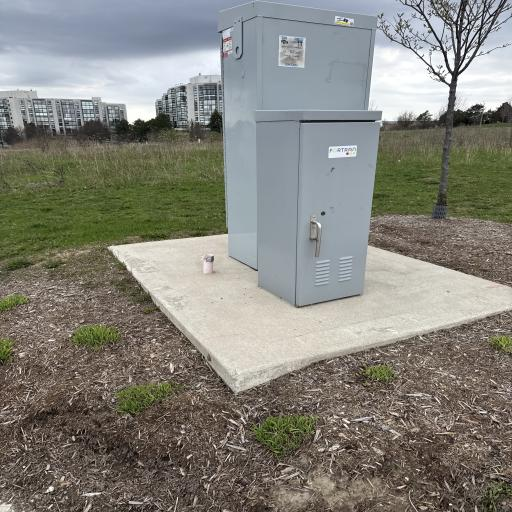Electrical Box: (216, 0, 382, 305)
